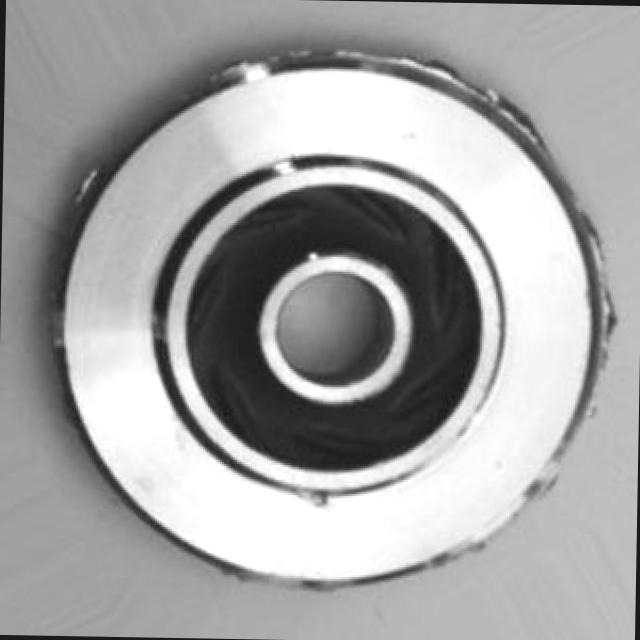Defect: (410, 49, 504, 108), (296, 478, 340, 518)
